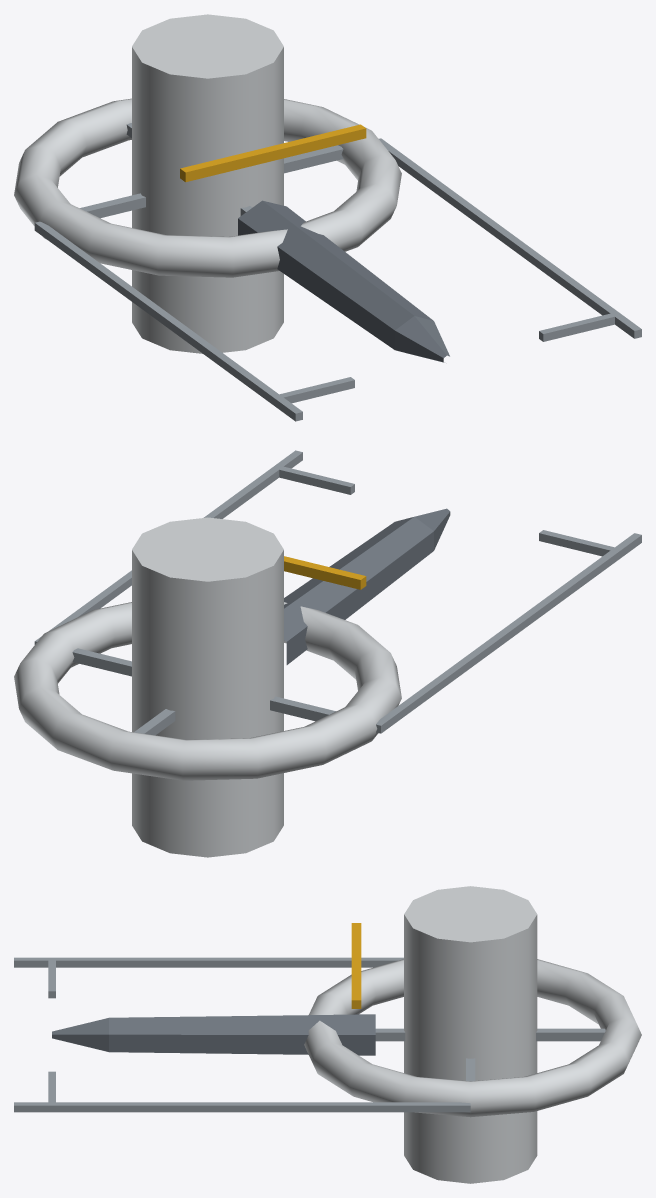
The model's file is space_orbital_shipyard_t1.glb.
3 renders of one model, top to bottom at view 1: azimuth 30°, elevation 25°; view 2: azimuth 150°, elevation 25°; view 3: azimuth 270°, elevation 25°, orthographic. The views are drawn at different scales.
Visible parts, largest first — view 1: body, ring, dock_arm_0, dock_arm_1, crane_0; view 2: body, ring, dock_arm_0, dock_arm_1, crane_0; view 3: body, ring, dock_arm_1, dock_arm_0, crane_0.
Part boxes in pixels (x1,y1,x2,y2): body: (132, 14, 449, 362); ring: (14, 98, 401, 277); dock_arm_0: (34, 221, 354, 421); dock_arm_1: (379, 138, 641, 341); crane_0: (180, 124, 366, 182); body: (132, 508, 450, 857); ring: (14, 602, 401, 780); dock_arm_0: (376, 530, 641, 733); dock_arm_1: (34, 450, 354, 644); crane_0: (284, 556, 366, 589); body: (52, 886, 537, 1183); ring: (304, 959, 641, 1117); dock_arm_1: (14, 1071, 470, 1112); dock_arm_0: (14, 957, 403, 998); crane_0: (351, 923, 361, 1008).
Size of what is drawn, in the model's own units: 18.4 by 14 by 33.
